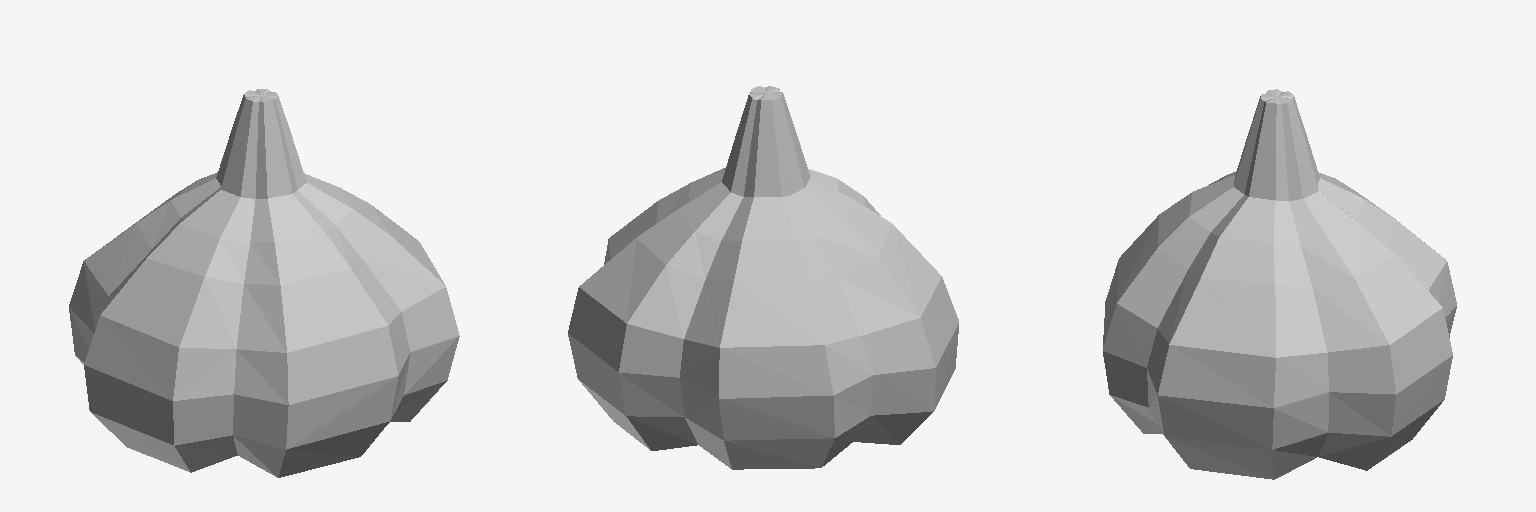
Rendered from Ajo.obj.
The picture shows the model from 3 angles: view 1: azimuth 30°, elevation 25°; view 2: azimuth 150°, elevation 25°; view 3: azimuth 270°, elevation 25°; orthographic projection.
Parts seen in each view (by area): view 1: Ajo.001_garlic.000; view 2: Ajo.001_garlic.000; view 3: Ajo.001_garlic.000.
Boxes of the visible parts, x1=… form: Ajo.001_garlic.000: x1=69, y1=89, x2=459, y2=477; Ajo.001_garlic.000: x1=568, y1=86, x2=958, y2=469; Ajo.001_garlic.000: x1=1103, y1=89, x2=1456, y2=479.
Size of the model in its own units: 0.1618 by 0.1467 by 0.1463.